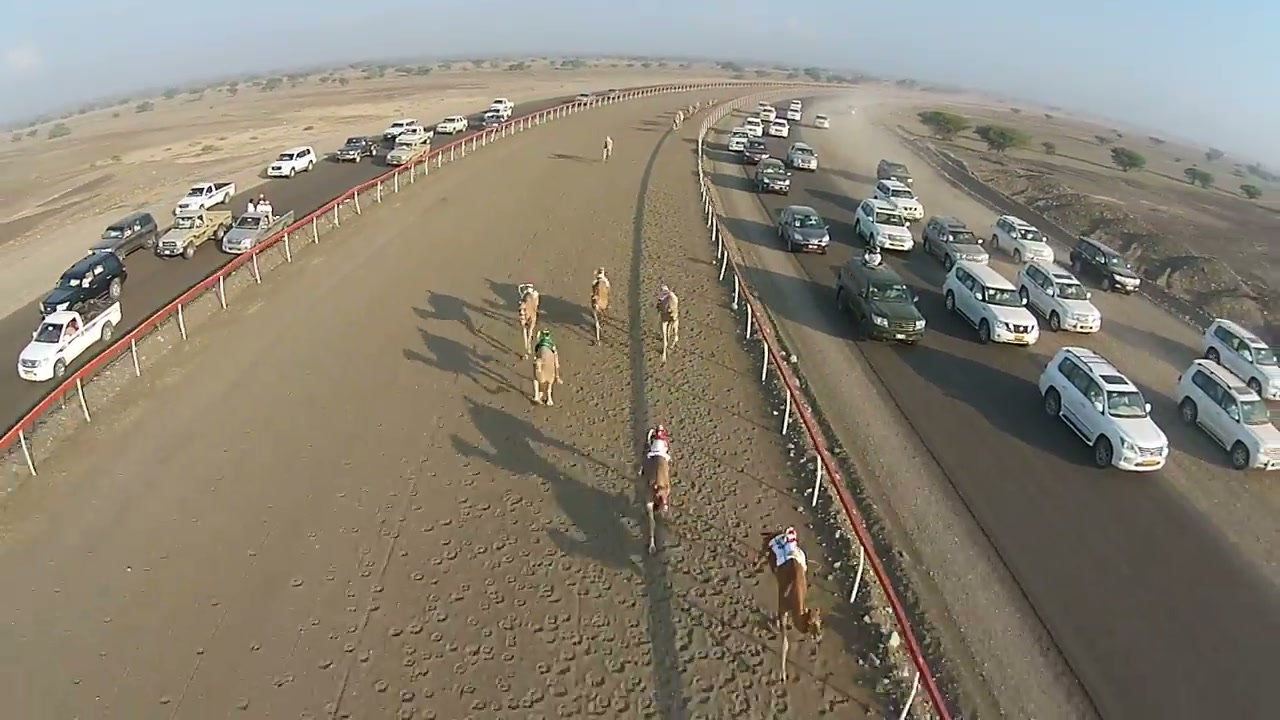animal_foot_print: (153, 438, 768, 711), (509, 346, 766, 658)
